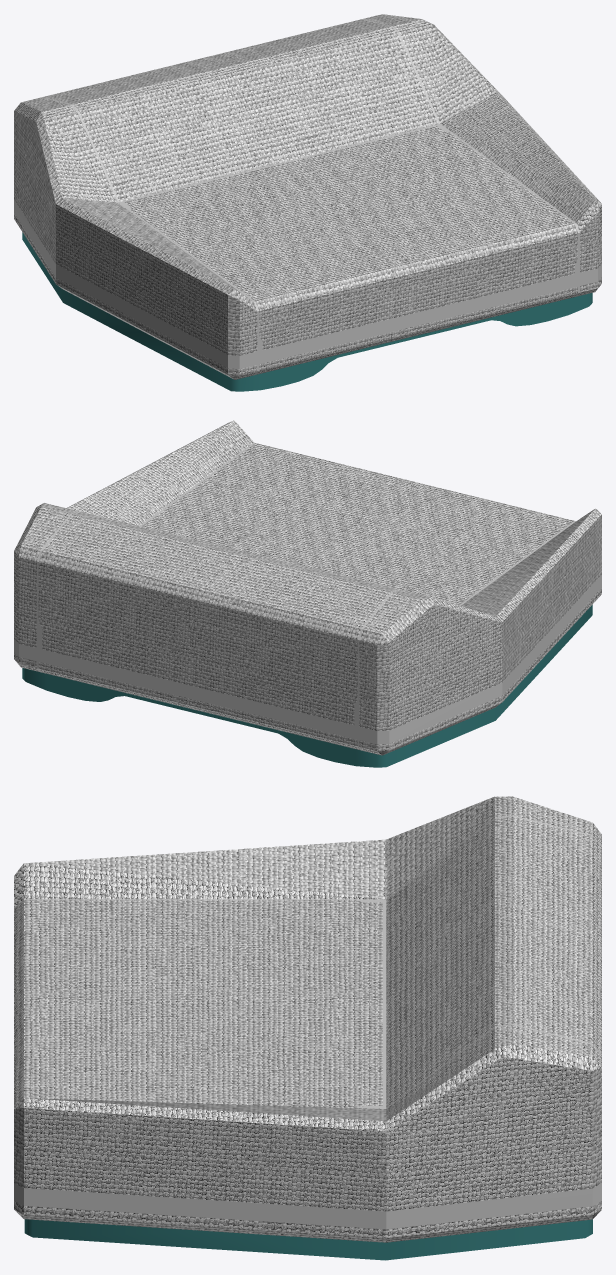
The model's file is D_Bench_103.fbx.
3 views of the same model, one above another, from view 1: azimuth 30°, elevation 25°; view 2: azimuth 150°, elevation 25°; view 3: azimuth 270°, elevation 25° (orthographic). The views are drawn at different scales.
Parts seen in each view (by area): view 1: D_Bench_103; view 2: D_Bench_103; view 3: D_Bench_103.
Boxes of the visible parts, box(x1,y1,x2,y2) form: D_Bench_103: box(14, 14, 601, 391); D_Bench_103: box(14, 420, 601, 767); D_Bench_103: box(14, 796, 601, 1260).
Bounding box in the file's own units: 0.7 × 0.2314 × 0.5993.
